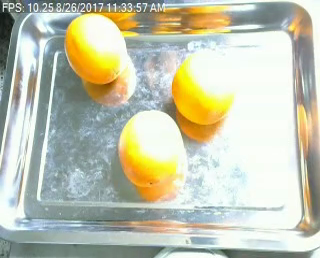Orange: (118, 108, 185, 187), (171, 52, 235, 124), (64, 13, 127, 84)
